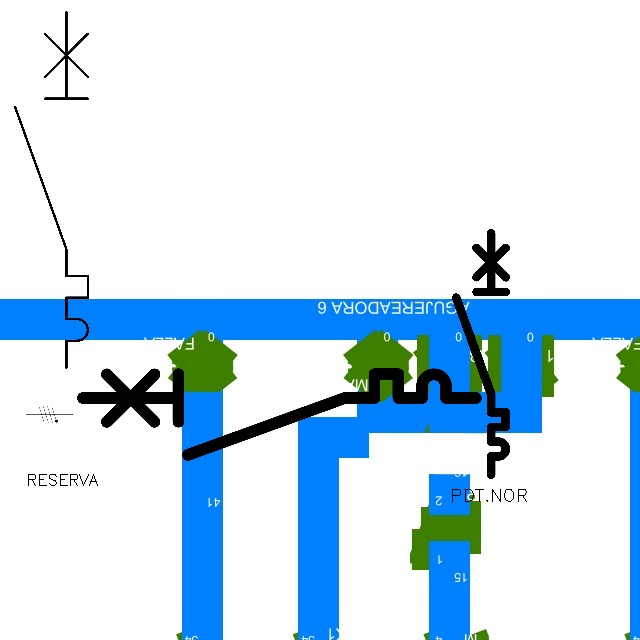interruptor_termomagnetico: (72, 364, 486, 465), (6, 3, 97, 377), (450, 227, 512, 481)
